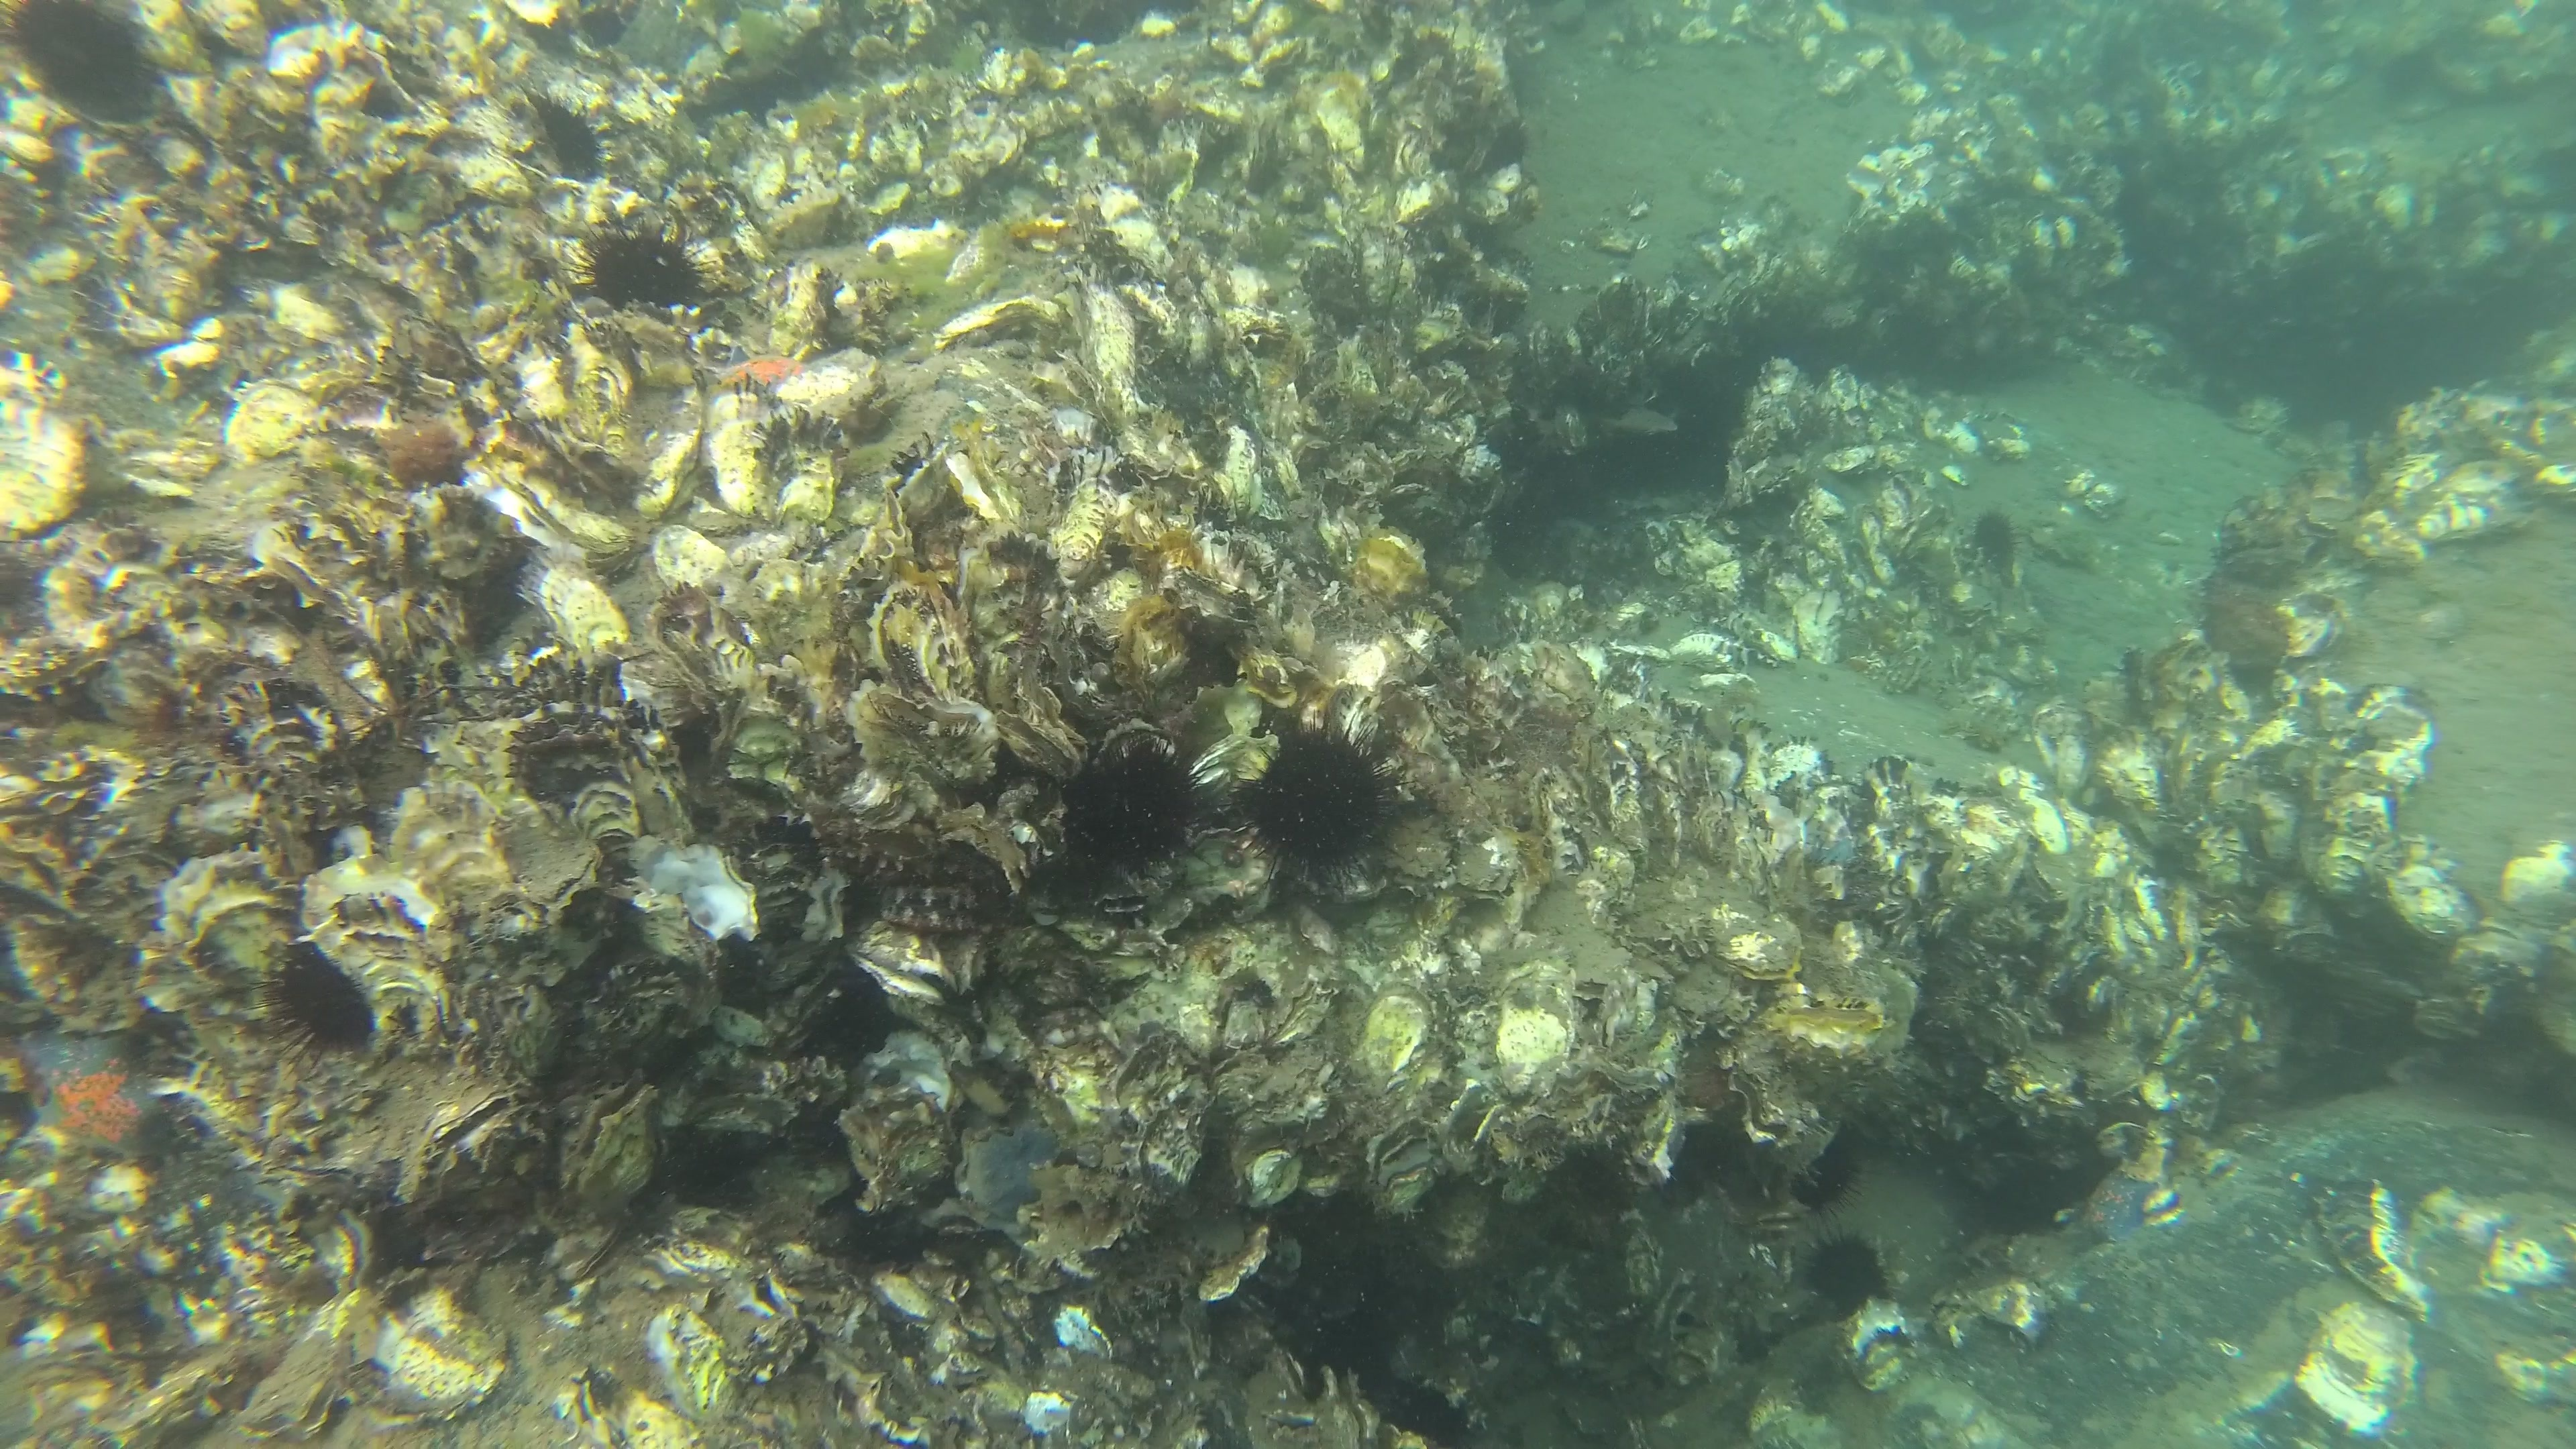echinus: (1223, 701, 1426, 904), (1051, 724, 1215, 883), (4, 2, 172, 131), (246, 936, 377, 1072), (559, 209, 725, 315), (524, 83, 610, 188), (1799, 1230, 1893, 1316), (1792, 1138, 1872, 1224), (1964, 504, 2028, 577), (1483, 113, 1536, 175)
starfish: (16, 1016, 184, 1171), (2074, 1155, 2166, 1251), (699, 338, 824, 407)
